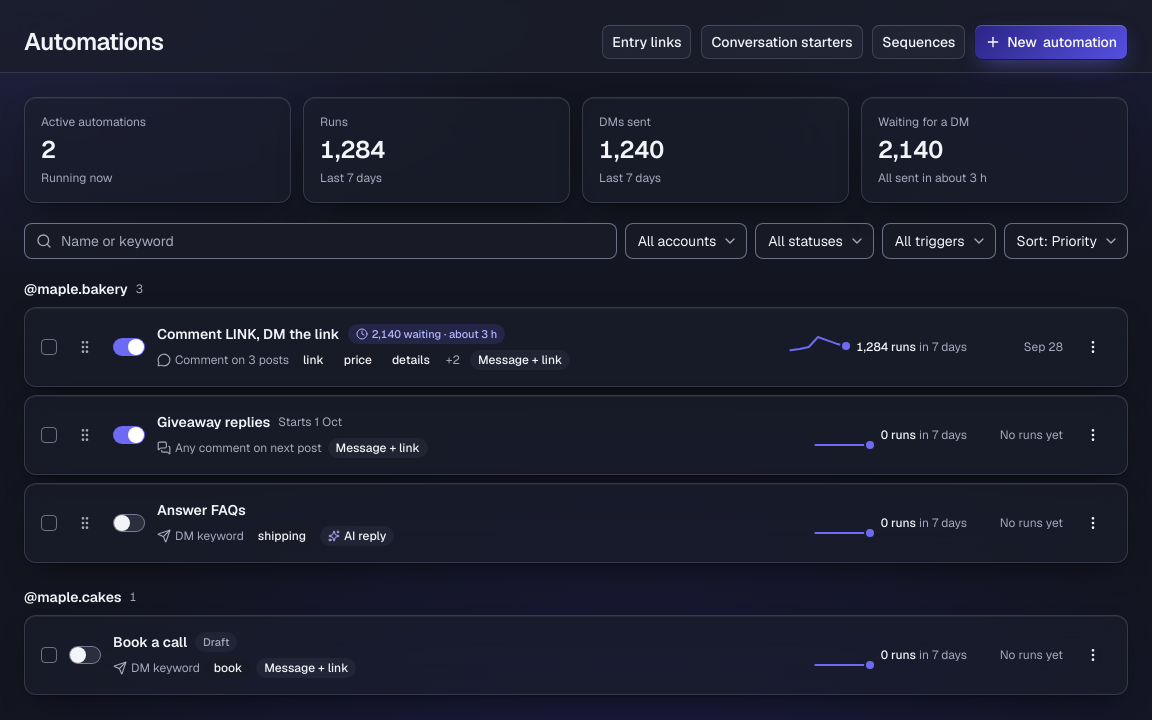
Test: A failed action says so once (UI-024, C-051) › a plan limit (402) is the upgrade dialog's alone: no toast
This screenshot has width=1152, height=720.
Expected: the link "Book a call" is shown, [113,632,187,652]
Click the button named "More actions for Book a call" at (1093, 655), box [1075,637,1111,673]
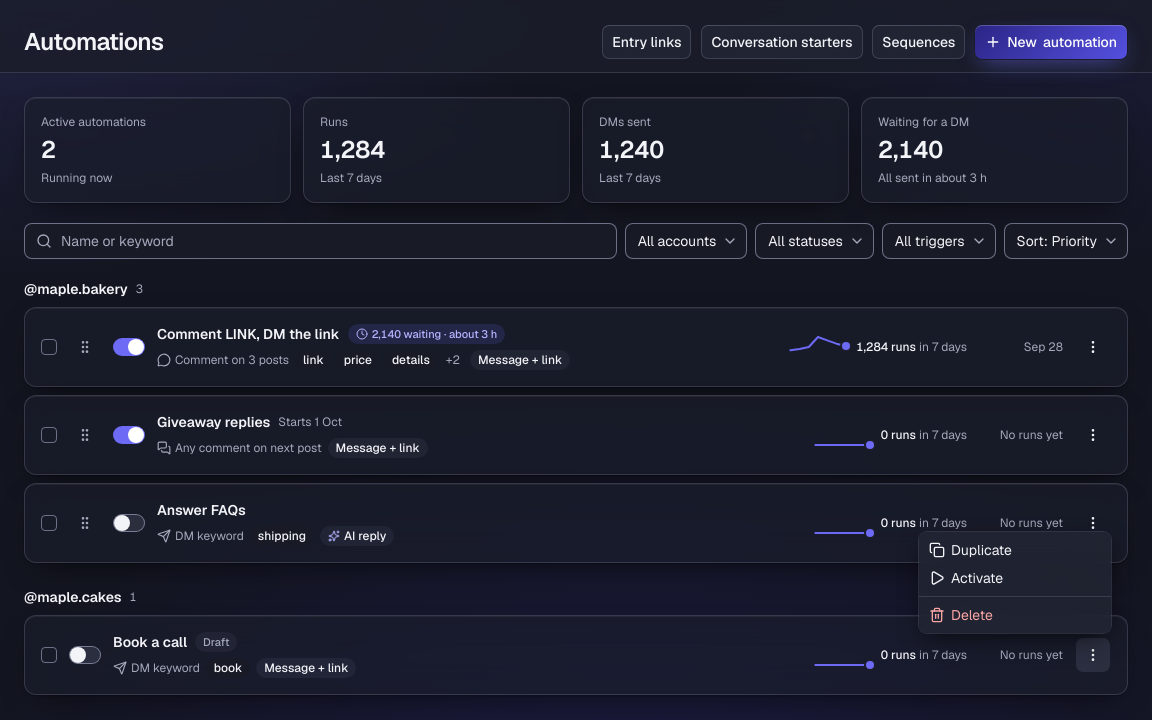
Click the menu item "Duplicate" at (970, 550), box [929,541,1012,559]
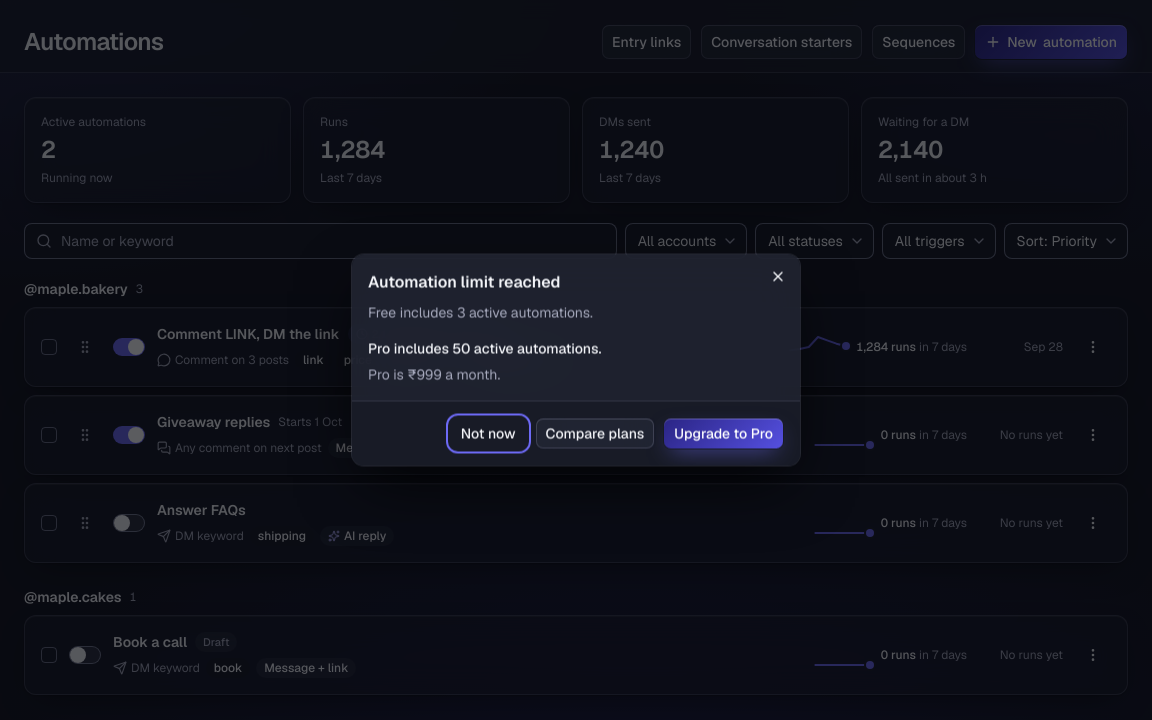
Now the dialog "Automation limit reached" is shown, box [352,254,800,466]
